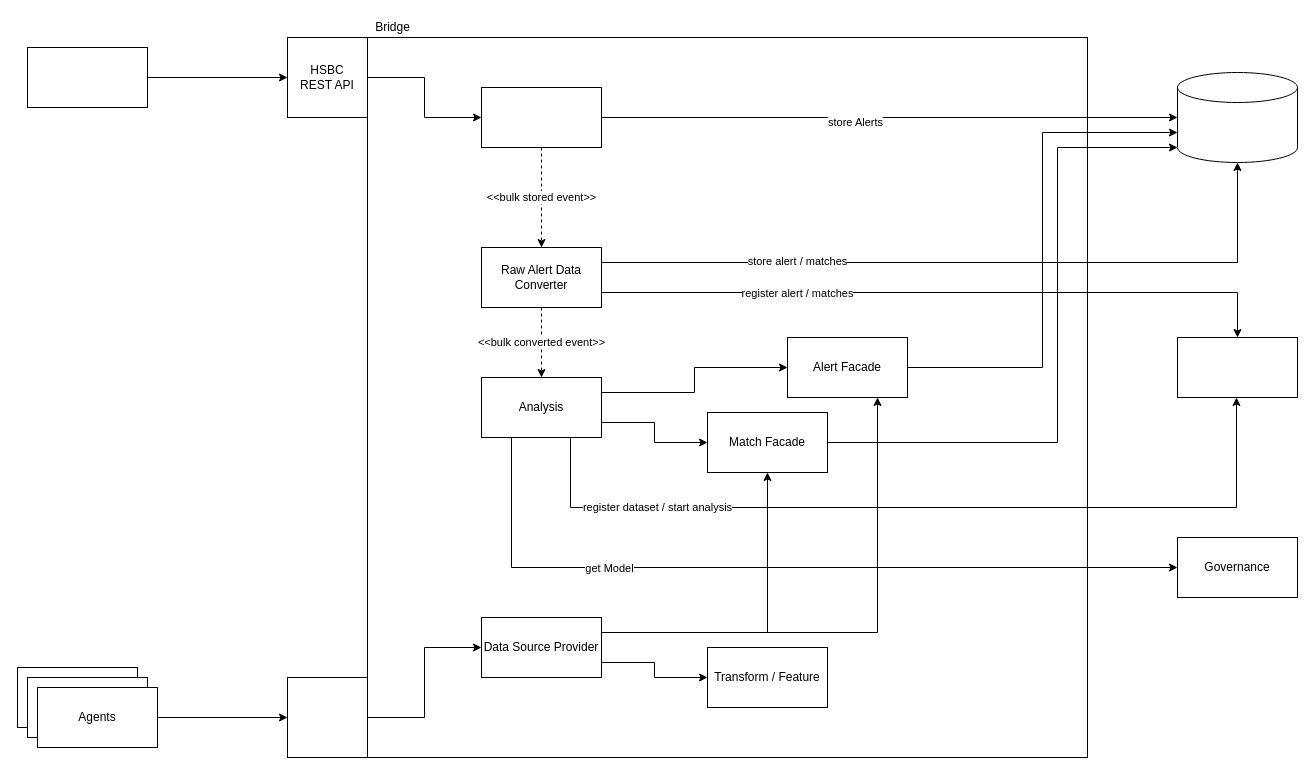
The diagram is 1315 pixels wide and 775 high, and some of its shapes have lost their labels. The centre of each missing label's shape, as x and y in pixels:
Adjudication Engine: point (1237, 367)
Brigde Database: point (1237, 117)
Bulk: point (541, 117)
DATA SOURCE API: point (327, 717)
HSBC: point (87, 77)
